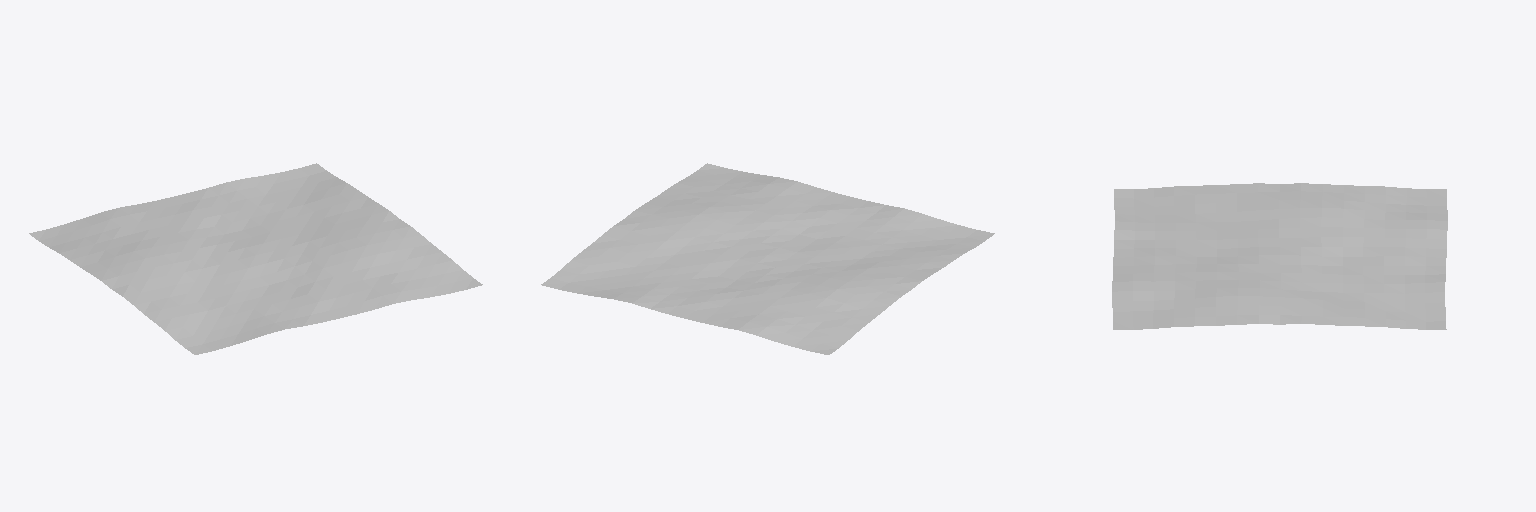
Rendered from water_000199.obj.
3 renders of one model, left to right at view 1: azimuth 30°, elevation 25°; view 2: azimuth 150°, elevation 25°; view 3: azimuth 270°, elevation 25°, orthographic.
Parts seen in each view (by area): view 1: Plan.003_Plan.001; view 2: Plan.003_Plan.001; view 3: Plan.003_Plan.001.
Boxes of the visible parts, x1,y1,x2,y2 form: Plan.003_Plan.001: [29, 163, 482, 354]; Plan.003_Plan.001: [541, 163, 994, 354]; Plan.003_Plan.001: [1112, 183, 1447, 329].
Bounding box in the file's own units: 60369 × 1633 × 60785.